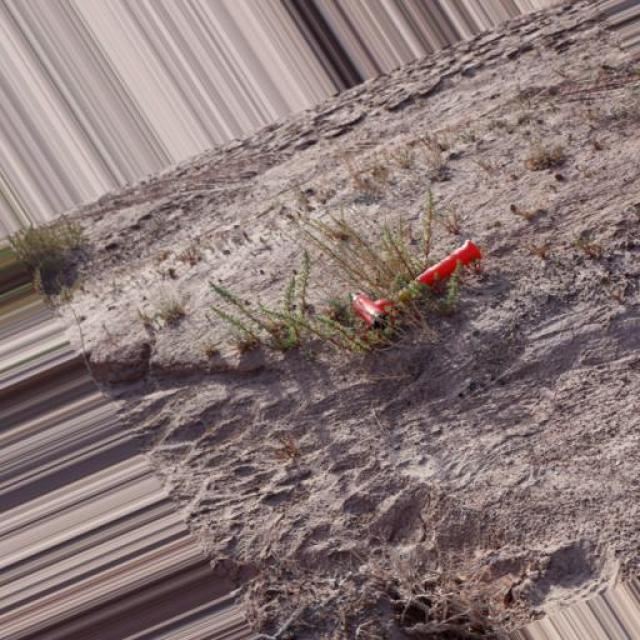mallet: (348, 238, 482, 330)
